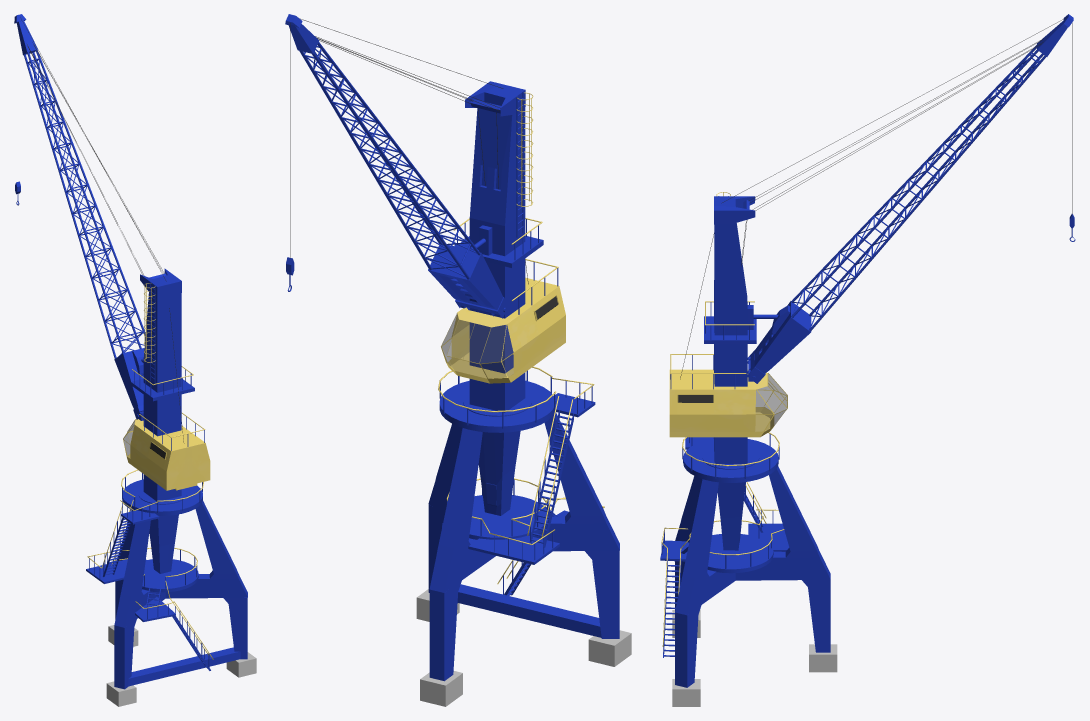
The model's file is Takraf_Crane.obj.
The picture shows the model from 3 angles, left to right: view 1: azimuth 30°, elevation 25°; view 2: azimuth 150°, elevation 25°; view 3: azimuth 270°, elevation 25°; orthographic projection. The views are drawn at different scales.
Visible parts, largest first — view 1: Takraf_Crane.005, Цилиндр.012_Цилиндр.044, Куб.001_Куб.019, Куб.032_Куб.020, Куб.003_Куб, Куб_Куб.001, Коуг_2_Цилиндр.002, круг_1_Цилиндр.002, Низ_Куб.005, Цилиндр.003_Цилиндр.004, Верхушка_Куб.007, Куб.031_Куб.015 (+4 smaller); view 2: Takraf_Crane.005, Куб.002_Куб, Цилиндр.012_Цилиндр.044, Куб.003_Куб, Куб.001_Куб.019, Куб.004_Куб.024, Цилиндр.003_Цилиндр.004, Коуг_2_Цилиндр.002, Куб_Куб.001, Низ_Куб.005, круг_1_Цилиндр.002, Куб.032_Куб.020 (+8 smaller); view 3: Takraf_Crane.005, Цилиндр.012_Цилиндр.044, Куб.001_Куб.019, Куб.002_Куб, Куб.032_Куб.020, Цилиндр.003_Цилиндр.004, Коуг_2_Цилиндр.002, круг_1_Цилиндр.002, Низ_Куб.005, Куб.004_Куб.024, Верхушка_Куб.007, Куб.003_Куб (+2 smaller).
Part boxes in pixels (left/top/right/bottom): Takraf_Crane.005: left=143, top=292, right=181, bottom=573; Цилиндр.012_Цилиндр.044: left=23, top=49, right=145, bottom=358; Куб.001_Куб.019: left=123, top=419, right=210, bottom=490; Куб.032_Куб.020: left=165, top=500, right=247, bottom=659; Куб.003_Куб: left=114, top=520, right=165, bottom=689; Куб_Куб.001: left=128, top=647, right=240, bottom=686; Коуг_2_Цилиндр.002: left=122, top=479, right=202, bottom=515; круг_1_Цилиндр.002: left=142, top=559, right=198, bottom=592; Низ_Куб.005: left=106, top=625, right=256, bottom=706; Цилиндр.003_Цилиндр.004: left=114, top=348, right=144, bottom=419; Верхушка_Куб.007: left=140, top=268, right=181, bottom=298; Куб.031_Куб.015: left=130, top=378, right=194, bottom=401; Takraf_Crane.005: left=469, top=107, right=525, bottom=515; Куб.002_Куб: left=429, top=428, right=495, bottom=681; Цилиндр.012_Цилиндр.044: left=299, top=42, right=480, bottom=279; Куб.003_Куб: left=533, top=412, right=619, bottom=638; Куб.001_Куб.019: left=441, top=277, right=565, bottom=383; Куб.004_Куб.024: left=441, top=313, right=513, bottom=378; Цилиндр.003_Цилиндр.004: left=428, top=245, right=508, bottom=318; Коуг_2_Цилиндр.002: left=439, top=380, right=555, bottom=432; Куб_Куб.001: left=457, top=584, right=601, bottom=637; Низ_Куб.005: left=416, top=589, right=631, bottom=706; круг_1_Цилиндр.002: left=469, top=495, right=548, bottom=539; Куб.032_Куб.020: left=428, top=423, right=462, bottom=592; Takraf_Crane.005: left=714, top=223, right=747, bottom=550; Цилиндр.012_Цилиндр.044: left=791, top=45, right=1046, bottom=331; Куб.001_Куб.019: left=669, top=369, right=787, bottom=437; Куб.002_Куб: left=735, top=466, right=830, bottom=652; Куб.032_Куб.020: left=675, top=479, right=735, bottom=687; Цилиндр.003_Цилиндр.004: left=747, top=301, right=811, bottom=383; Коуг_2_Цилиндр.002: left=683, top=439, right=778, bottom=482; круг_1_Цилиндр.002: left=707, top=534, right=773, bottom=573; Низ_Куб.005: left=672, top=610, right=837, bottom=706; Куб.004_Куб.024: left=755, top=373, right=787, bottom=431; Верхушка_Куб.007: left=714, top=196, right=755, bottom=224; Куб.003_Куб: left=675, top=476, right=712, bottom=610.
Size of the model in its own units: 12.11 by 46.33 by 26.77.
